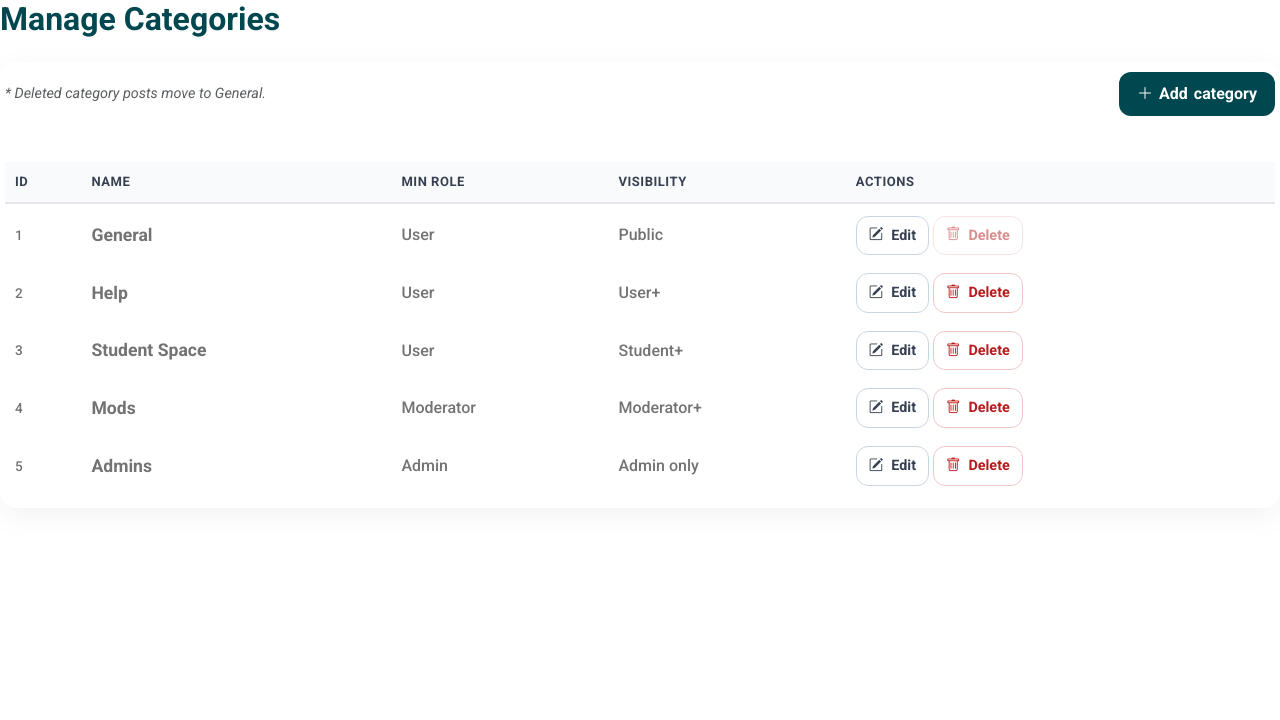
it: Manage Categories Visibility (Admin) — AdminCategories.vue › opens edit modal with Public when visibleFromRoleId is null
Click the button with class "btn-action" in the row of "Public" at (892, 235), box [856, 216, 929, 255]
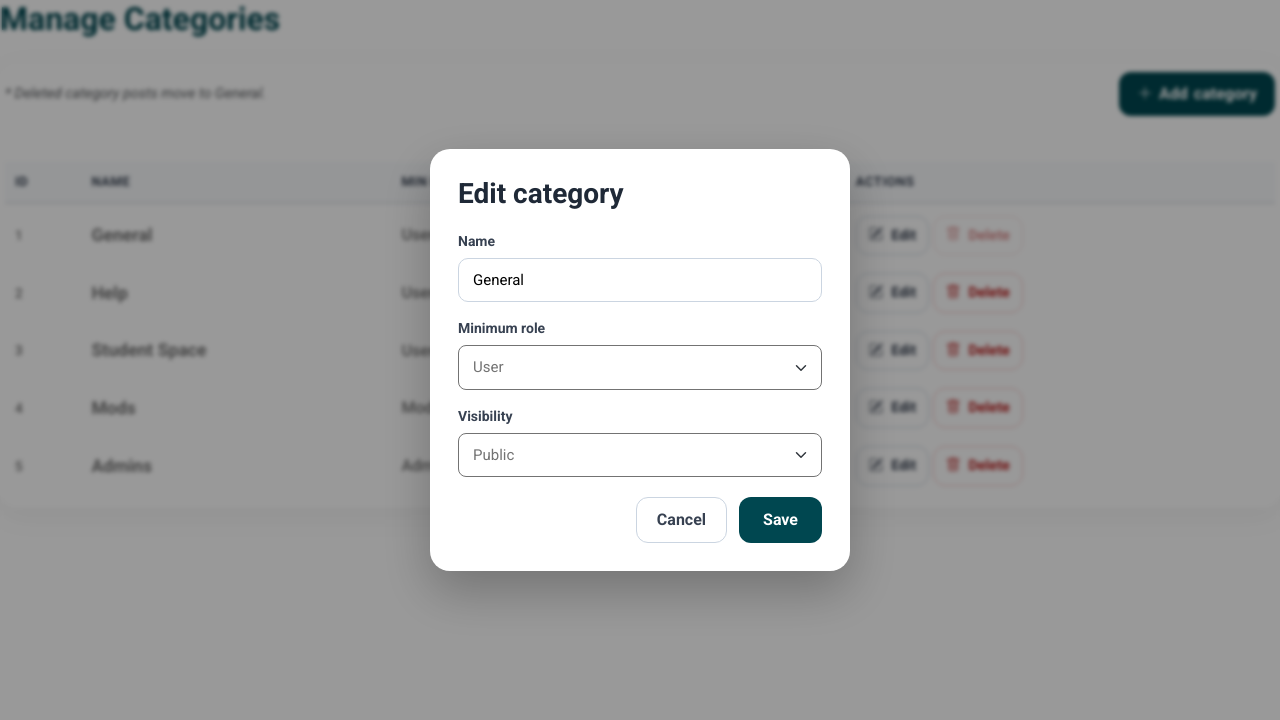
expect the 2nd dropdown shows "Public": met, box [458, 433, 822, 477]
